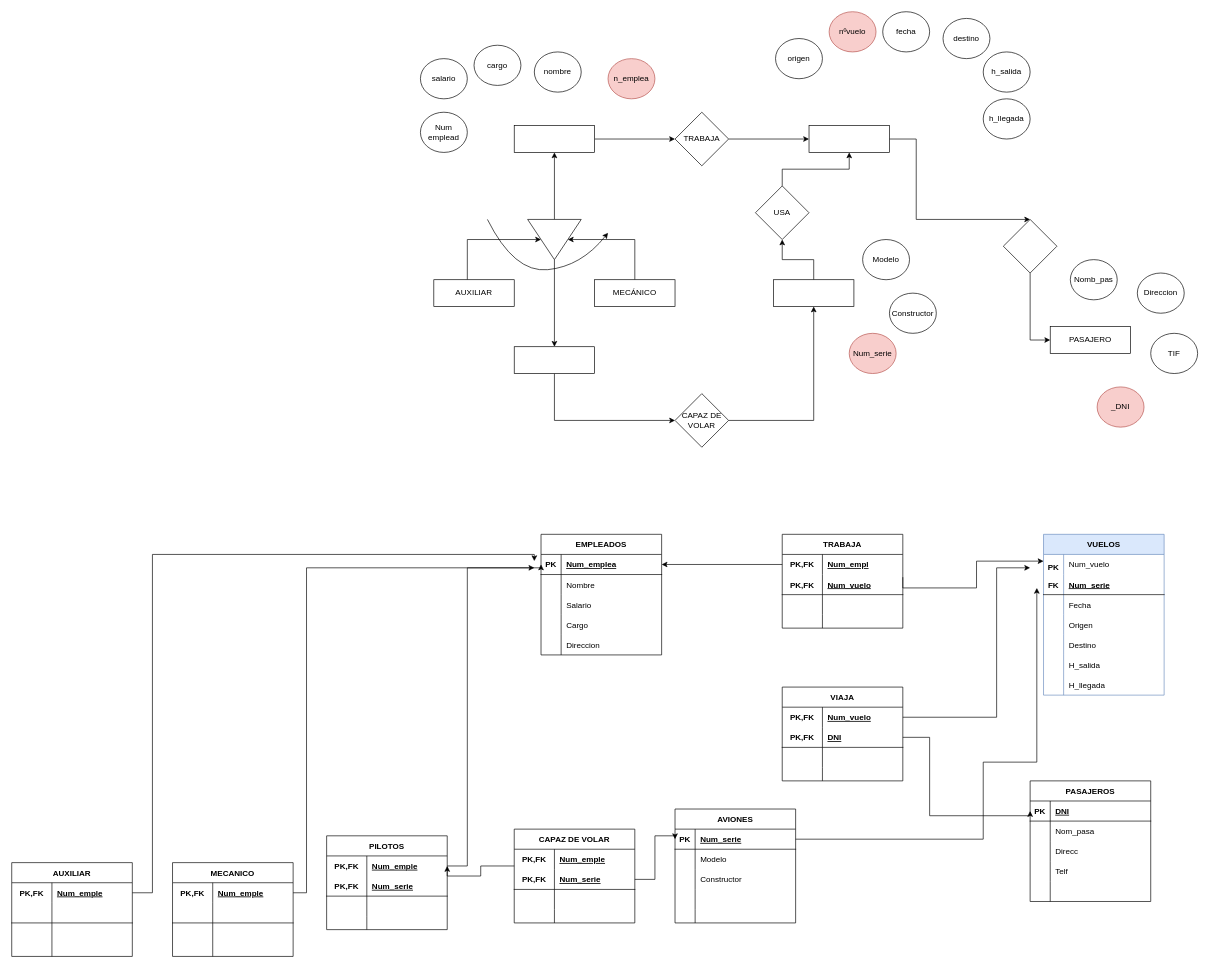
Image size: 1209x968. Some labels were removed from this diagram. Here are the shapes that lost their labels. From the top down, the centre of each, then its label:
[554,138]: EMPLEADO
[848,138]: VUELO
[554,239]: IS A
[1030,246]: VA
[813,293]: AVION
[554,360]: PILOTO
